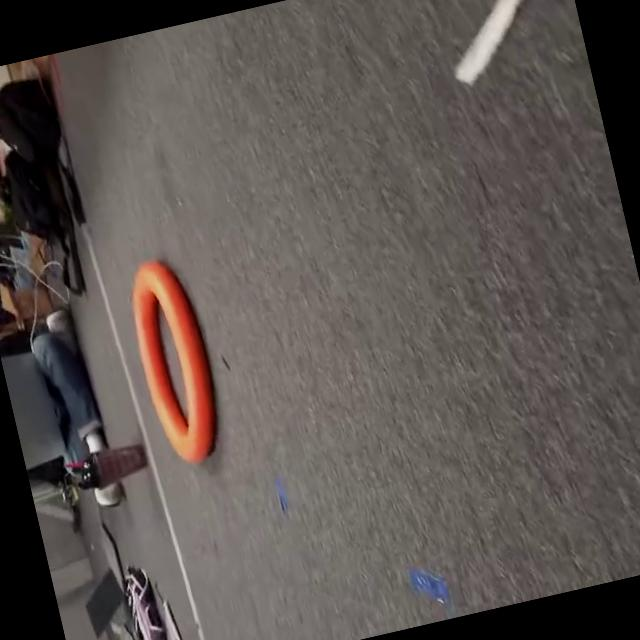note: (109, 242, 241, 483)
